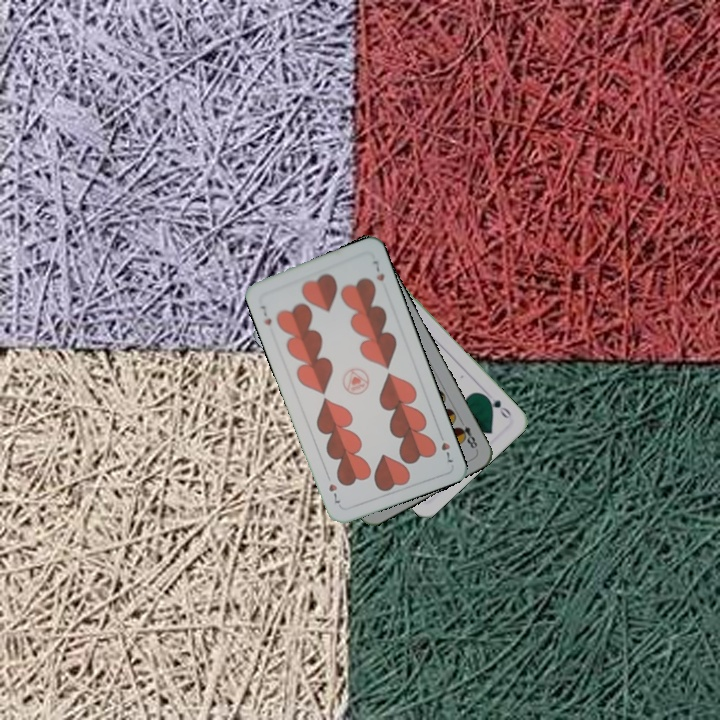E8: (453, 415, 480, 453)
GO: (481, 391, 514, 422)
H7: (434, 428, 456, 465), (257, 301, 274, 327)
